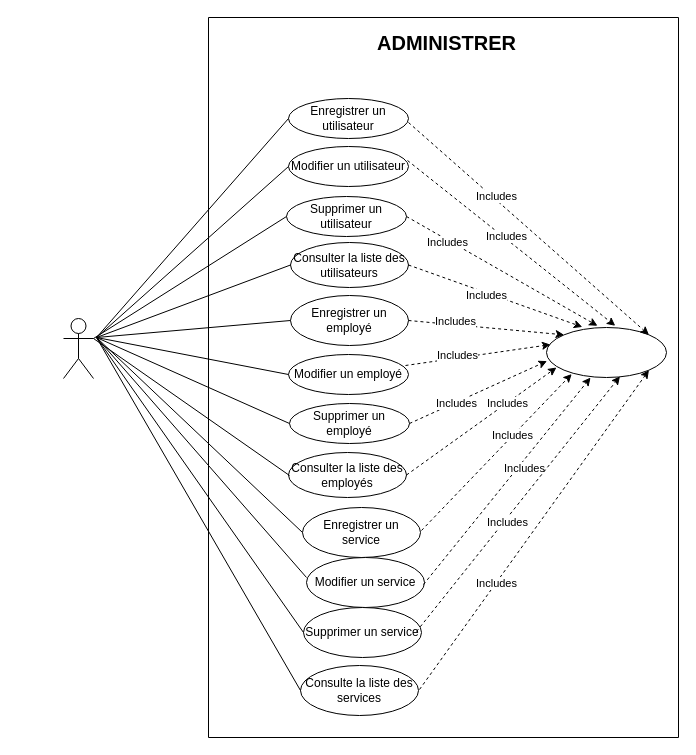
This 696x755 diagram has some shape labels left out. Each missing label, with the centre of its shape:
"ADMINISTRATEUR" belongs at [78,348].
"S'authentifier" belongs at [606,352].
